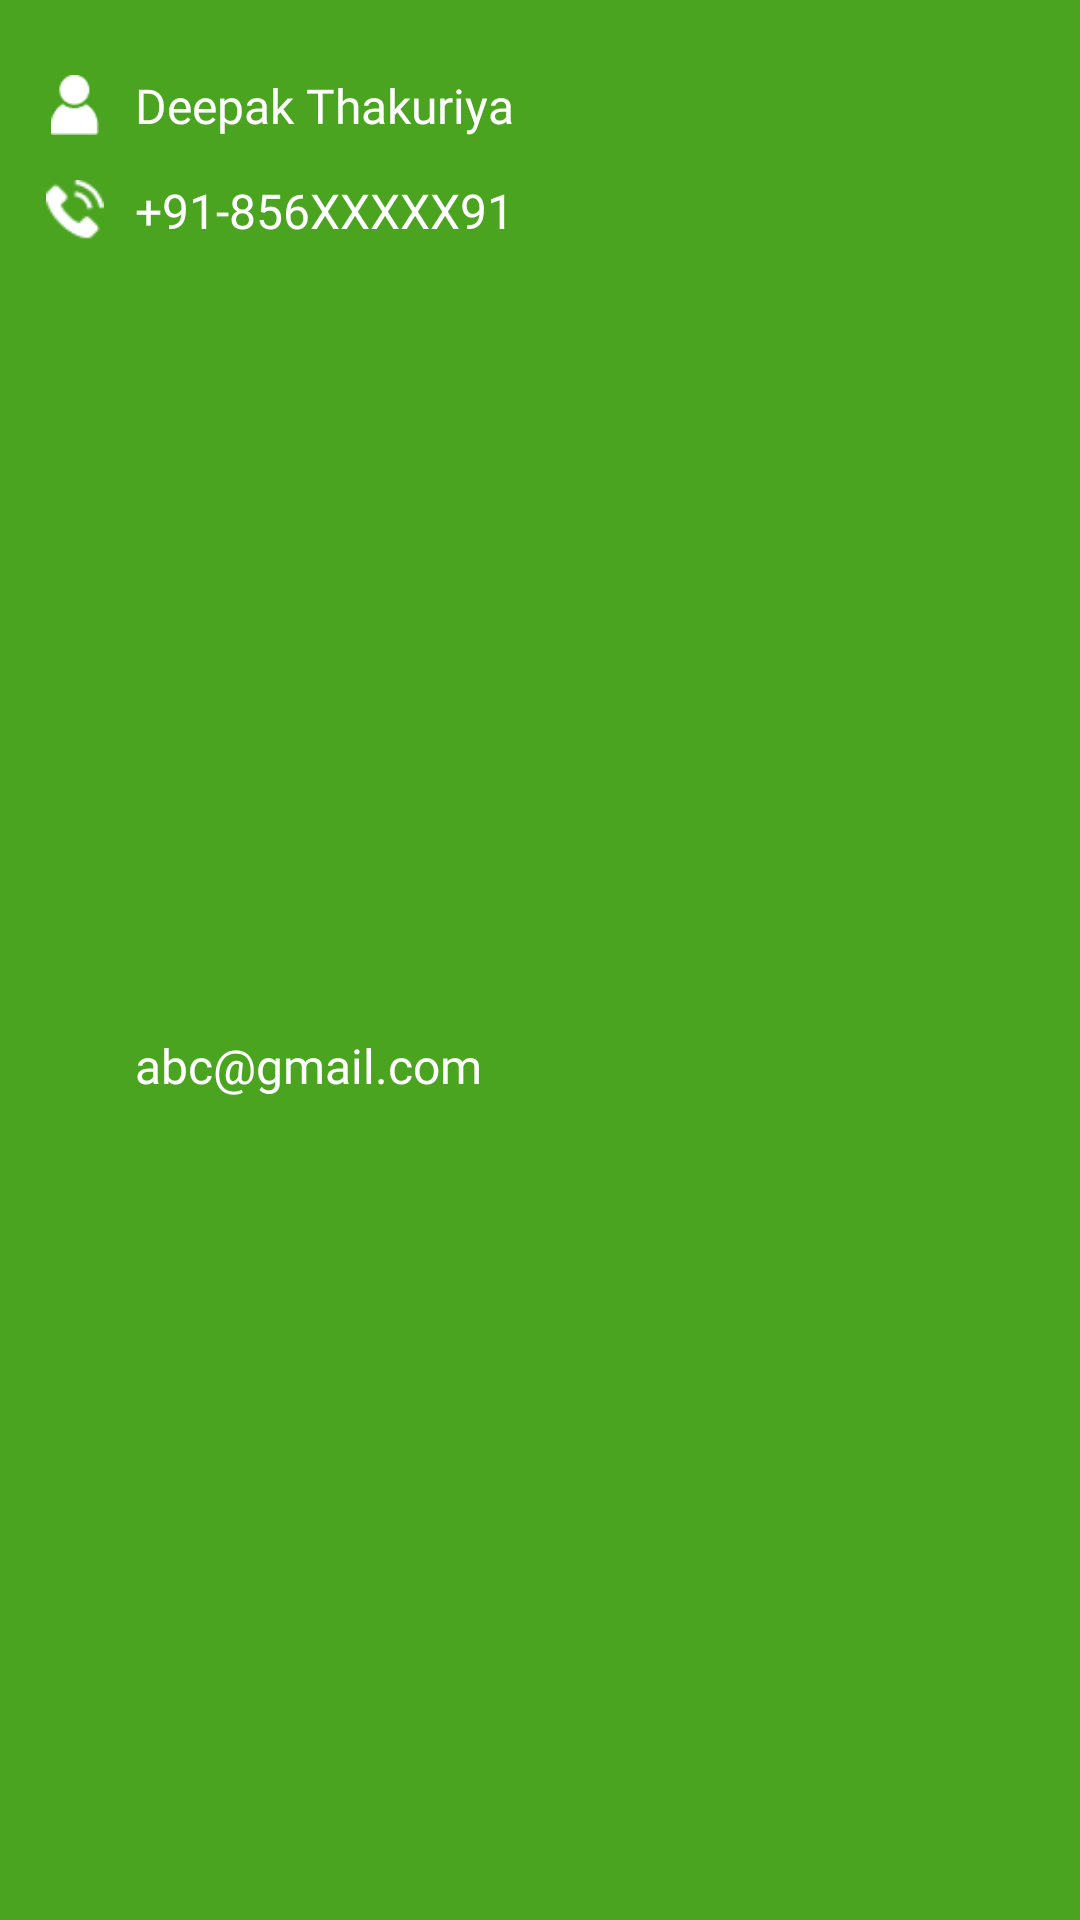

Point at icon controls on the screen. Image size 1080x1920, points as point (x, y).
phone: point (75, 209)
user: point (75, 105)
